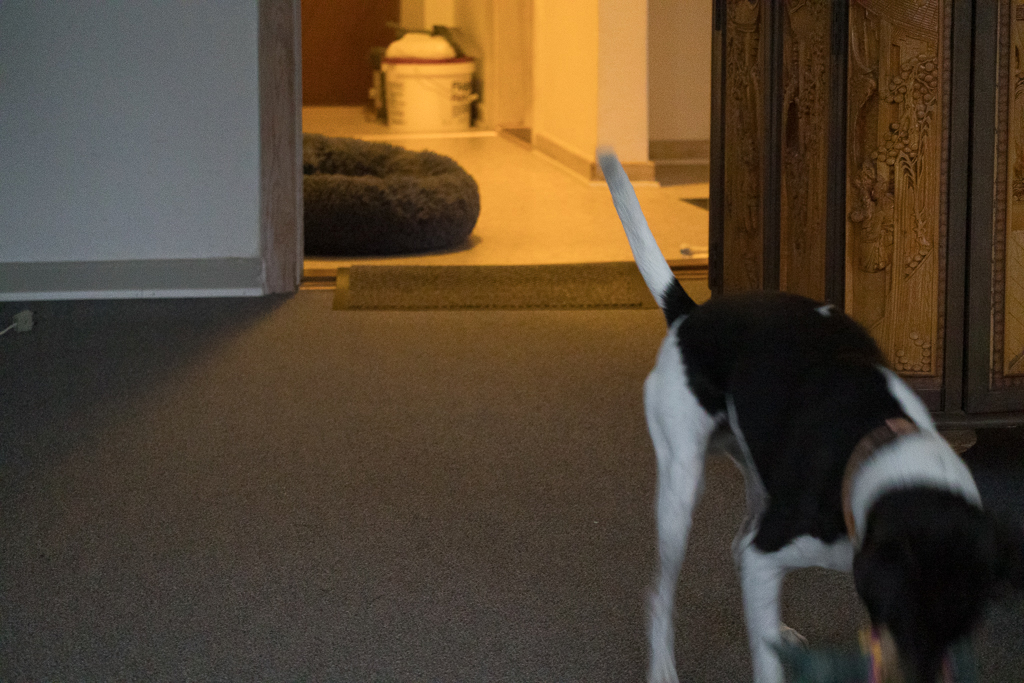Dog: (587, 142, 1024, 683)
